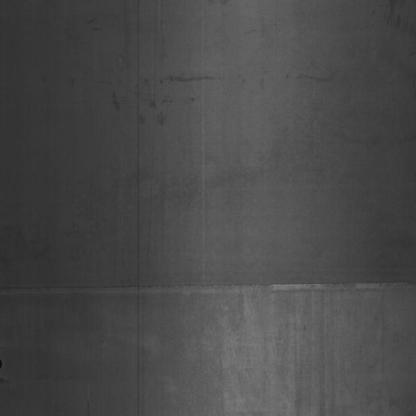welding_line: (0, 276, 416, 306)
